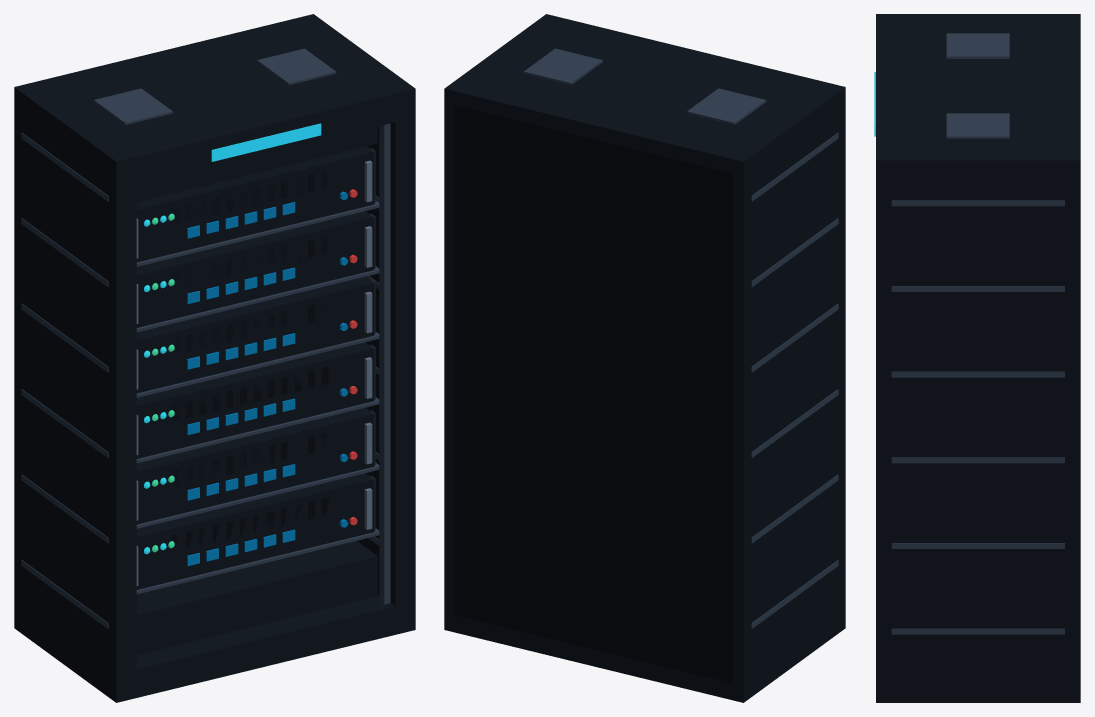
The model's file is server_rack.glb.
The picture shows the model from 3 angles, left to right: view 1: azimuth 30°, elevation 25°; view 2: azimuth 150°, elevation 25°; view 3: azimuth 270°, elevation 25°; orthographic projection.
Visible parts, largest first — view 1: object 1, object 15, Blade_1, Blade_3, Blade_0, Blade_4, Blade_2, Blade_5, object 76, object 27, object 16, object 2 (+13 smaller); view 2: object 19, object 1, object 15, object 16, object 2, object 18, object 17, object 5, object 3, object 9, object 11, object 13; view 3: object 2, object 15, object 16, object 17, object 18, object 4, object 8, object 10, object 14, object 6, object 12.
Boxes of the visible parts, left/top/right/bottom form: object 1: left=14, top=87, right=127, bottom=702; object 15: left=14, top=14, right=415, bottom=174; Blade_1: left=136, top=407, right=379, bottom=528; Blade_3: left=136, top=276, right=379, bottom=397; Blade_0: left=136, top=473, right=379, bottom=594; Blade_4: left=136, top=211, right=379, bottom=332; Blade_2: left=136, top=342, right=379, bottom=463; Blade_5: left=136, top=146, right=379, bottom=266; object 76: left=136, top=541, right=377, bottom=654; object 27: left=390, top=114, right=408, bottom=607; object 16: left=14, top=596, right=415, bottom=702; object 2: left=331, top=36, right=415, bottom=632; object 19: left=455, top=105, right=732, bottom=682; object 1: left=732, top=87, right=845, bottom=702; object 15: left=444, top=14, right=845, bottom=175; object 16: left=444, top=612, right=845, bottom=702; object 2: left=444, top=44, right=511, bottom=632; object 18: left=523, top=48, right=602, bottom=85; object 17: left=687, top=88, right=766, bottom=124; object 5: left=751, top=474, right=838, bottom=543; object 3: left=751, top=560, right=838, bottom=628; object 9: left=751, top=303, right=838, bottom=372; object 11: left=751, top=218, right=838, bottom=286; object 13: left=751, top=132, right=838, bottom=201; object 2: left=876, top=155, right=1080, bottom=702; object 15: left=876, top=14, right=1080, bottom=174; object 16: left=876, top=686, right=1080, bottom=702; object 17: left=946, top=33, right=1009, bottom=58; object 18: left=946, top=113, right=1009, bottom=138; object 4: left=891, top=628, right=1064, bottom=634; object 8: left=891, top=457, right=1064, bottom=463; object 10: left=891, top=371, right=1064, bottom=377; object 14: left=891, top=200, right=1064, bottom=206; object 6: left=891, top=543, right=1064, bottom=548; object 12: left=891, top=286, right=1064, bottom=291.
Bounding box in the file's own units: 2.21 × 3.81 × 1.31.
